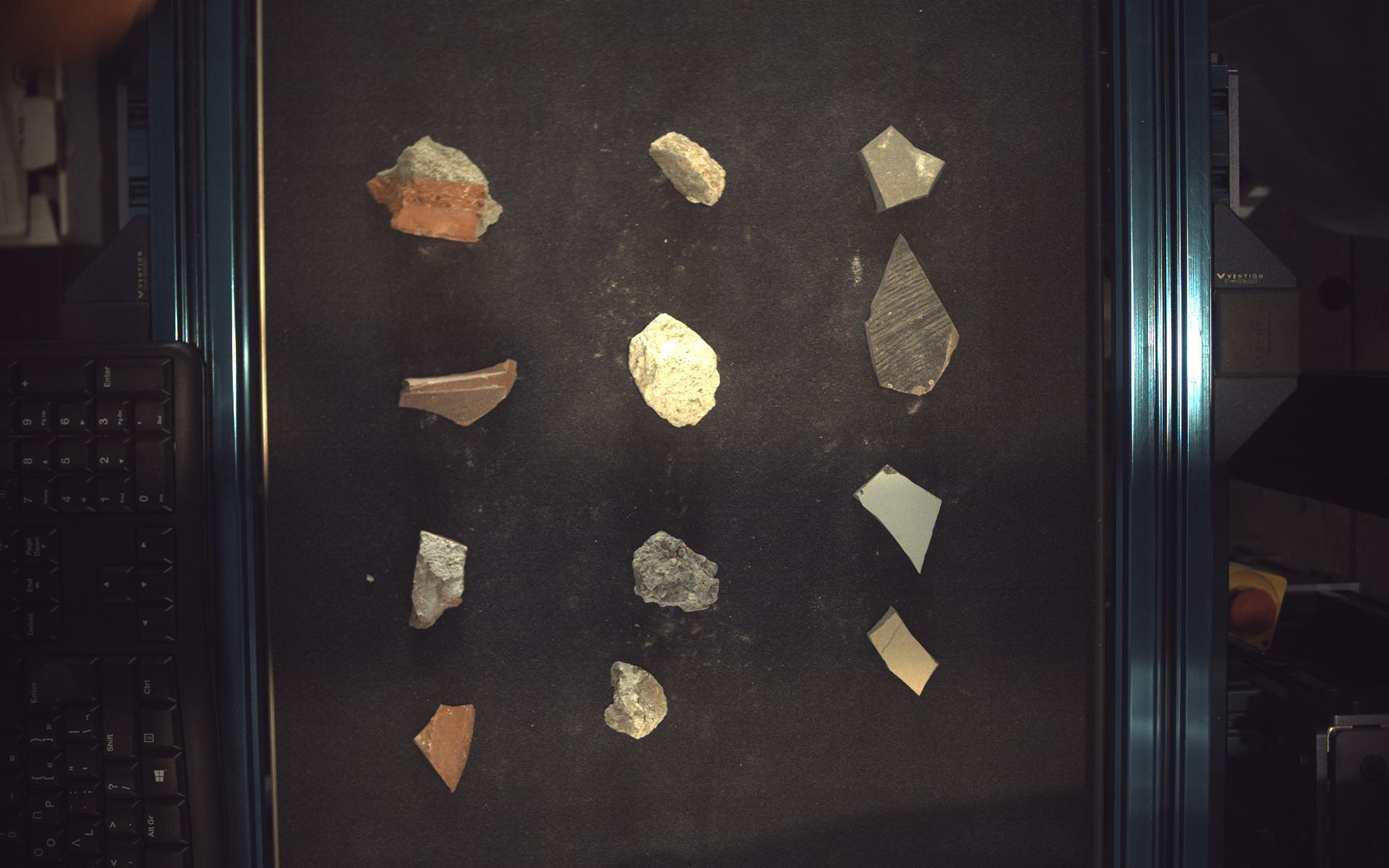brick: (367, 135, 503, 242), (399, 359, 517, 426), (409, 532, 467, 630), (414, 706, 475, 794)
concrete: (629, 312, 721, 427), (635, 532, 721, 613), (650, 131, 726, 205), (605, 663, 668, 741)
tile: (867, 235, 961, 396), (856, 465, 944, 574), (859, 125, 946, 212), (870, 608, 940, 697)
